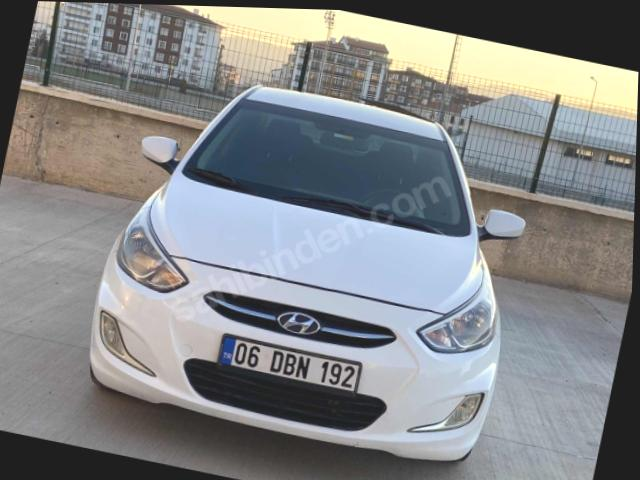plaka: (219, 335, 360, 391)
